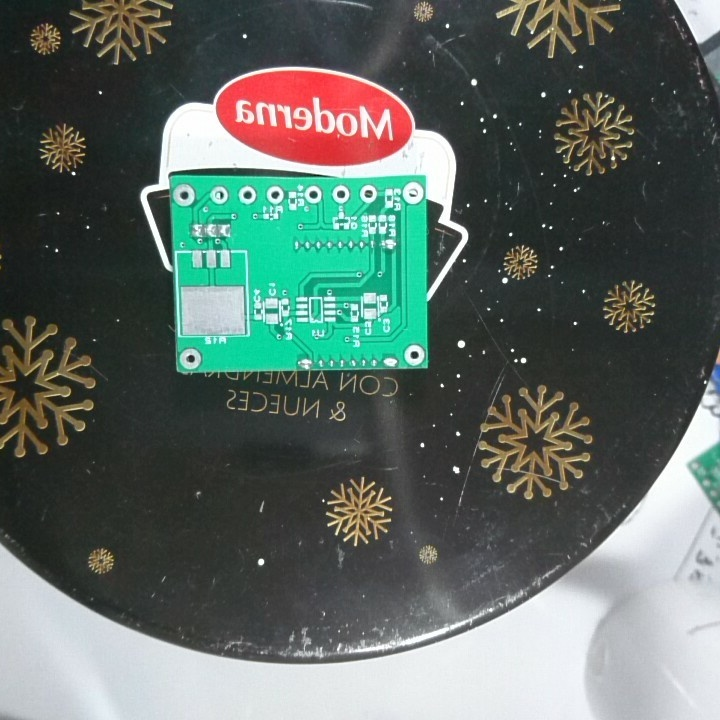F: (400, 181, 425, 207), (173, 183, 197, 209), (402, 341, 426, 366), (177, 347, 203, 369), (236, 183, 258, 206), (207, 183, 229, 206), (302, 183, 324, 205), (264, 183, 285, 205), (357, 183, 380, 203), (329, 183, 349, 203)
P: (380, 355, 400, 370), (378, 238, 399, 252), (294, 355, 315, 368)
